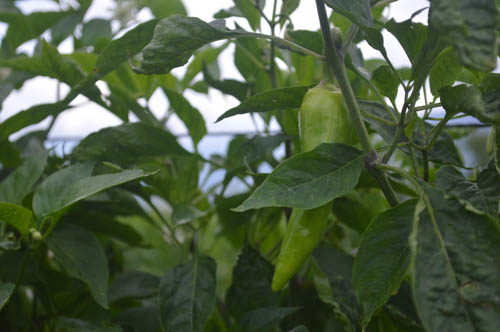ChiliPepper: (271, 88, 348, 303)
